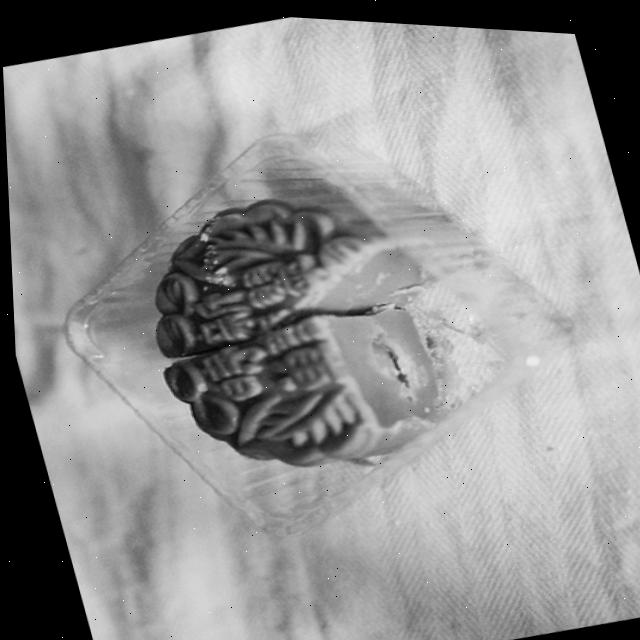蛋糕甜品: (57, 102, 549, 573)
